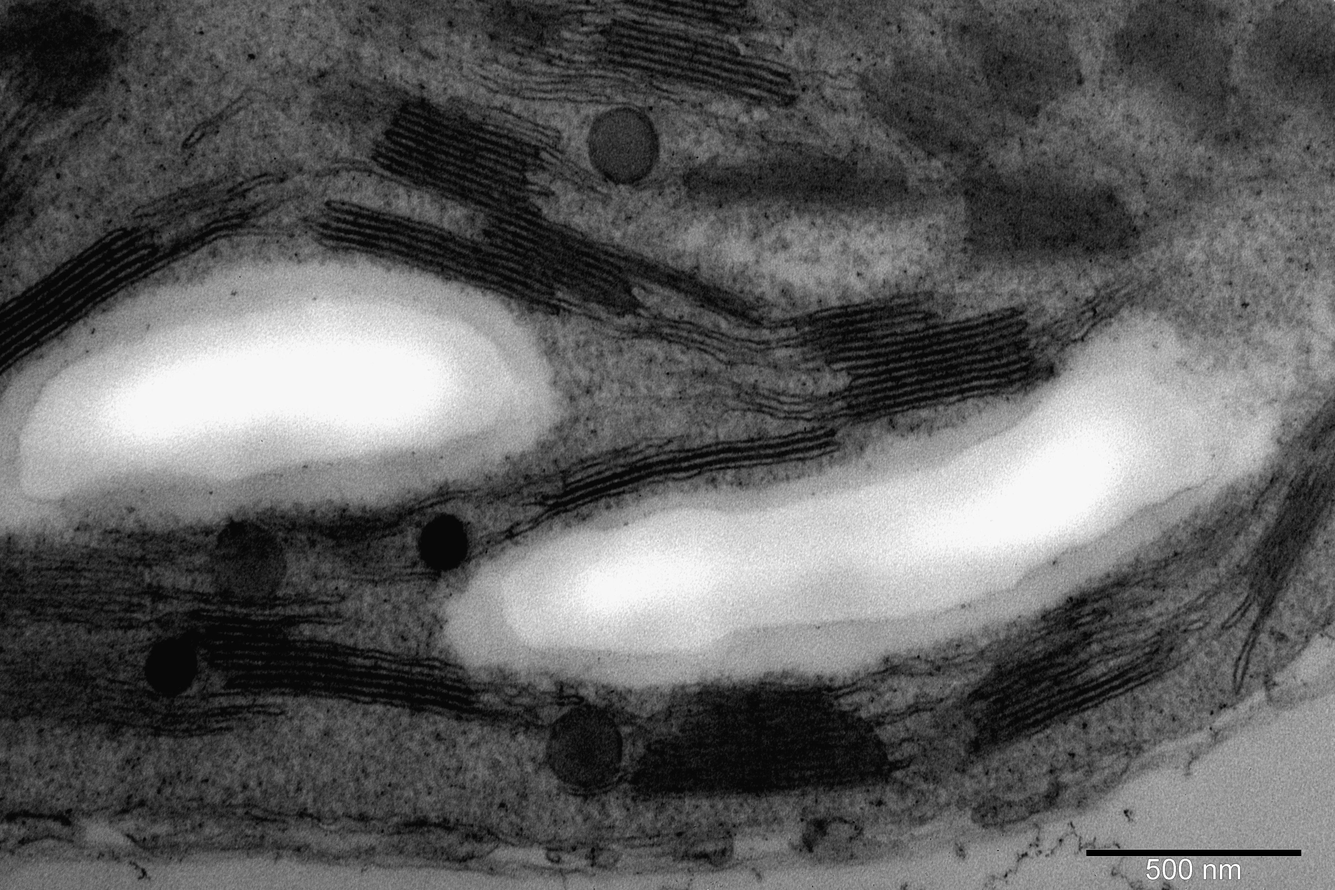granum: (361, 96, 768, 331), (185, 605, 486, 723), (797, 291, 1053, 429), (628, 682, 894, 804), (537, 425, 844, 520), (0, 223, 173, 372), (958, 641, 1165, 754), (601, 12, 797, 111), (959, 173, 1140, 262), (682, 143, 906, 213), (307, 201, 478, 289), (1233, 463, 1335, 606), (0, 0, 115, 122), (1114, 1, 1235, 115), (977, 31, 1082, 125), (1242, 15, 1335, 116), (613, 0, 750, 42), (480, 0, 580, 55)
